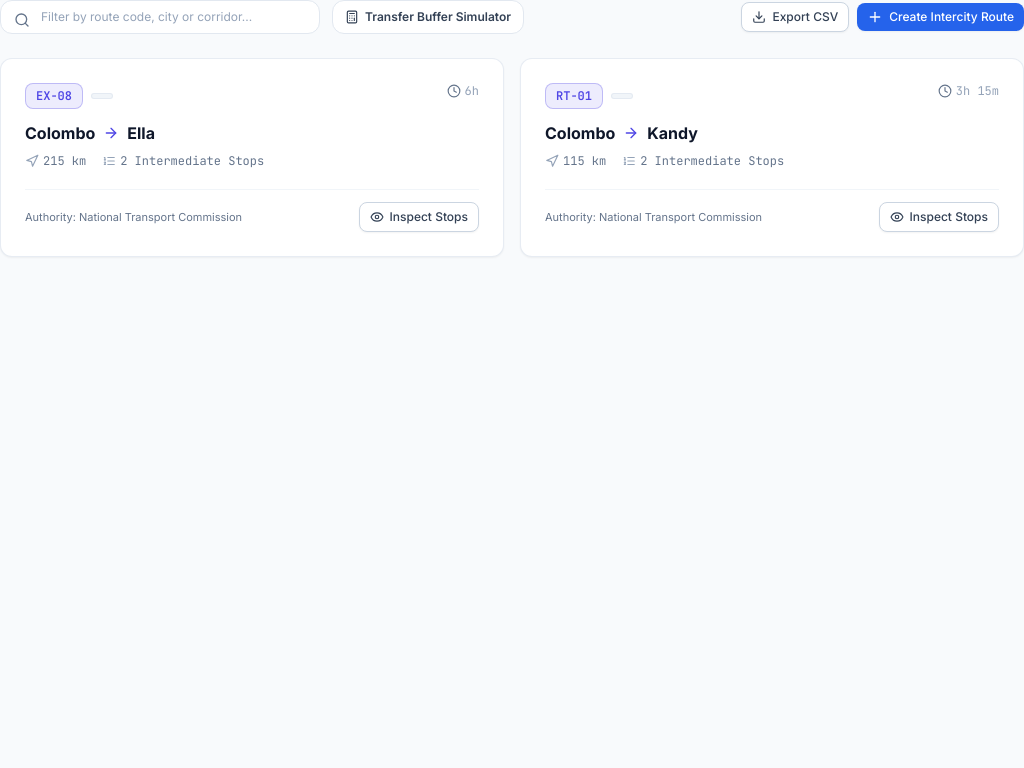
RouteManagerPage › opens Add Route modal when clicking Create Intercity Route button
Click the button "Create Intercity Route".
click(941, 17)  # box x1=857 y1=3 x2=1023 y2=31
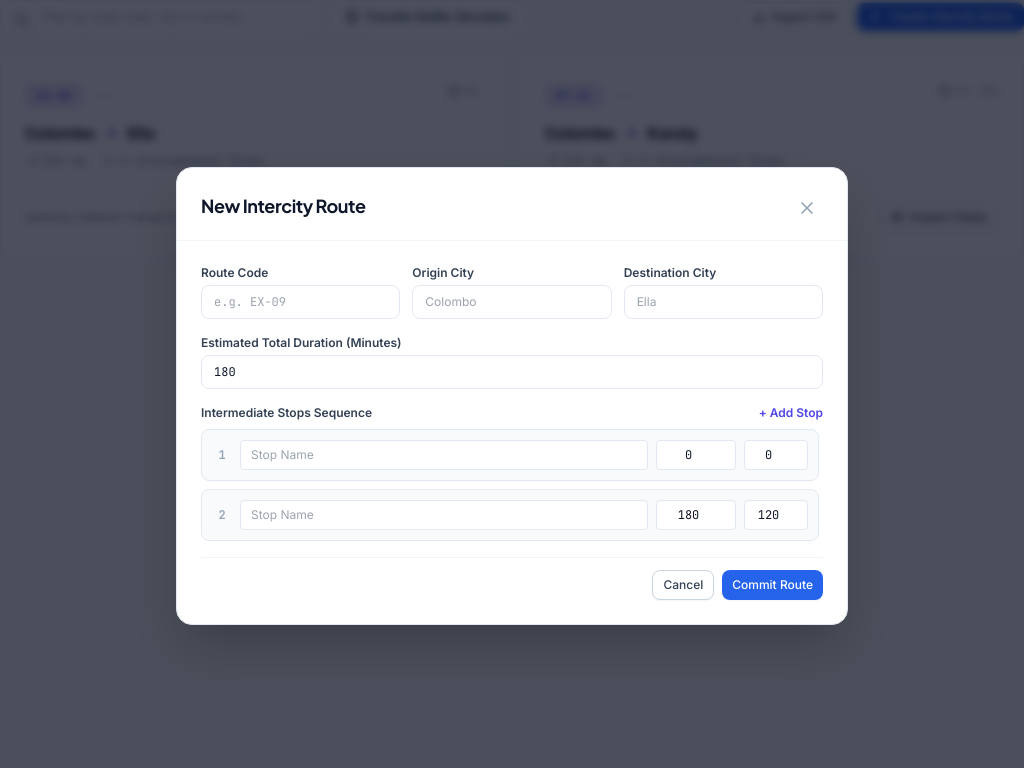
Expected: the heading "New Intercity Route" is shown, x1=201 y1=192 x2=366 y2=220
Expected: the field with placeholder "e.g. EX-09" is shown, x1=201 y1=285 x2=400 y2=319
